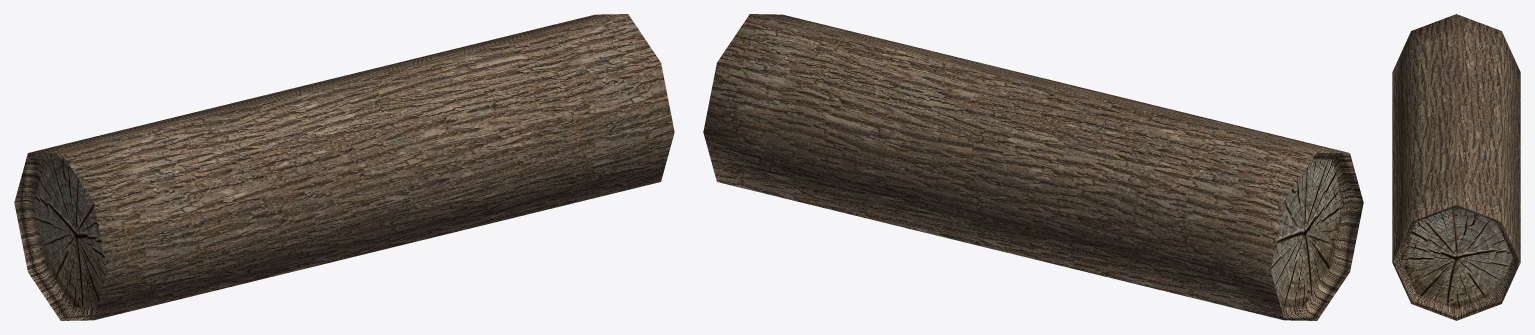
The model's file is Log.fbx.
3 renders of one model, left to right at view 1: azimuth 30°, elevation 25°; view 2: azimuth 150°, elevation 25°; view 3: azimuth 270°, elevation 25°, orthographic. The views are drawn at different scales.
Visible parts, largest first — view 1: Cylinder, Cylinder.004; view 2: Cylinder, Cylinder.004; view 3: Cylinder, Cylinder.003.
Boxes of the visible parts, x1,y1,x2,y2 form: Cylinder: (14,14,674,320); Cylinder.004: (33,159,107,307); Cylinder: (703,14,1363,320); Cylinder.004: (1270,159,1344,307); Cylinder: (1392,14,1520,320); Cylinder.003: (1400,207,1512,308).
Size of the model in its own units: 705 by 200 by 200.
